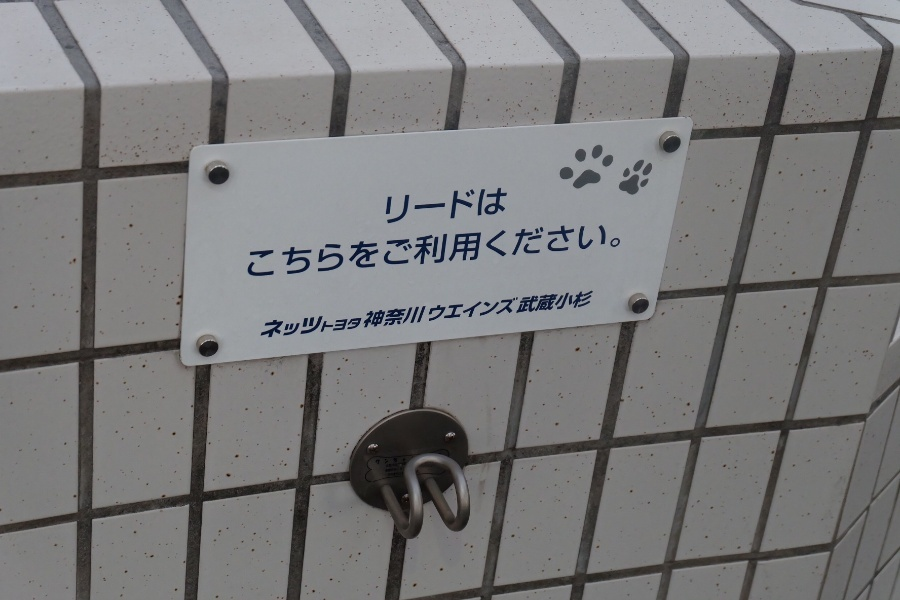text: (257, 224, 272, 278), (273, 224, 288, 278), (289, 224, 304, 278), (305, 224, 320, 278), (321, 224, 336, 278), (337, 224, 352, 278), (353, 224, 368, 278), (369, 224, 384, 278), (385, 224, 400, 278), (401, 224, 416, 278), (417, 224, 432, 278), (433, 224, 448, 278), (449, 224, 464, 278), (465, 224, 480, 278), (481, 224, 496, 278), (497, 224, 512, 278), (513, 224, 528, 278), (529, 224, 544, 278), (545, 224, 560, 278), (561, 224, 576, 278), (577, 224, 592, 278), (593, 224, 608, 278), (577, 292, 593, 340), (273, 292, 288, 340), (289, 292, 304, 340), (305, 292, 320, 340), (321, 292, 336, 340), (337, 292, 352, 340), (353, 292, 368, 340), (369, 292, 384, 340), (385, 292, 400, 340), (401, 292, 416, 340), (417, 292, 432, 340), (433, 292, 448, 340), (449, 292, 464, 340), (465, 292, 480, 340), (481, 292, 496, 340), (497, 292, 512, 340), (513, 292, 528, 340), (529, 292, 544, 340), (545, 292, 560, 340), (561, 292, 576, 340), (609, 224, 622, 278), (401, 186, 416, 226), (417, 186, 432, 226), (433, 186, 448, 226), (449, 186, 464, 226), (465, 186, 480, 226), (481, 186, 496, 226), (387, 186, 400, 226), (262, 292, 272, 340), (497, 186, 508, 226), (250, 224, 256, 278)
